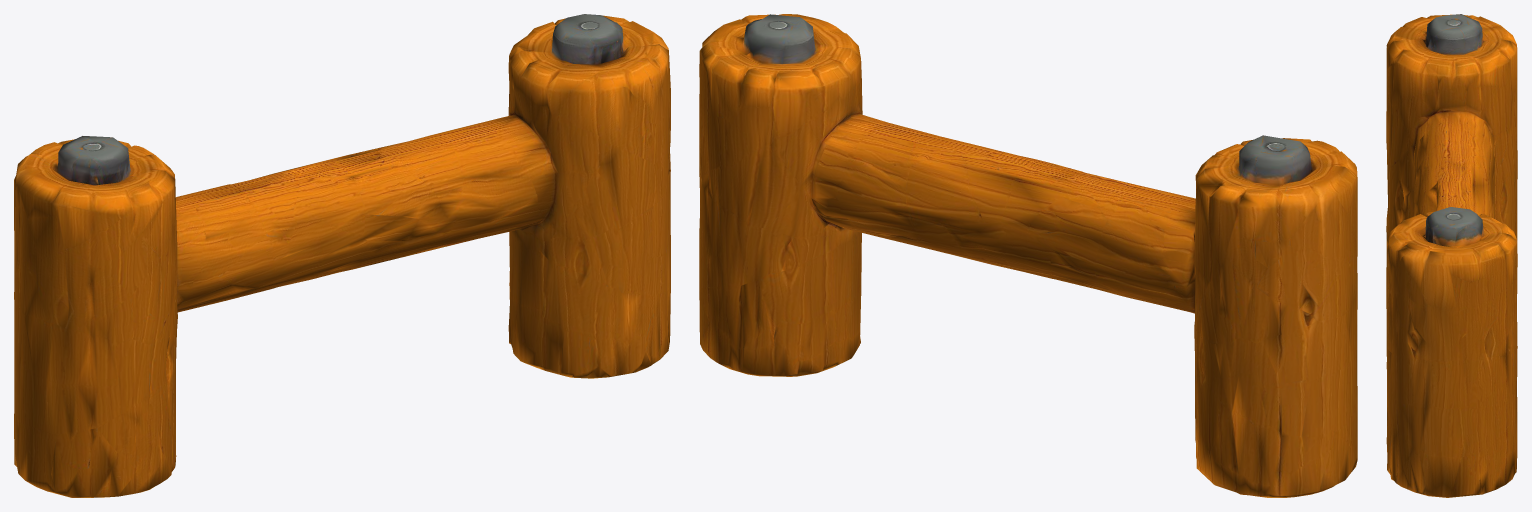
File: Racing barrier.glb
The picture shows the model from 3 angles, left to right: view 1: azimuth 30°, elevation 25°; view 2: azimuth 150°, elevation 25°; view 3: azimuth 270°, elevation 25°; orthographic projection. The views are drawn at different scales.
Size of the model in its own units: 1.9 by 0.9166 by 0.4245.
Materials: 1 (1 with a texture image).
